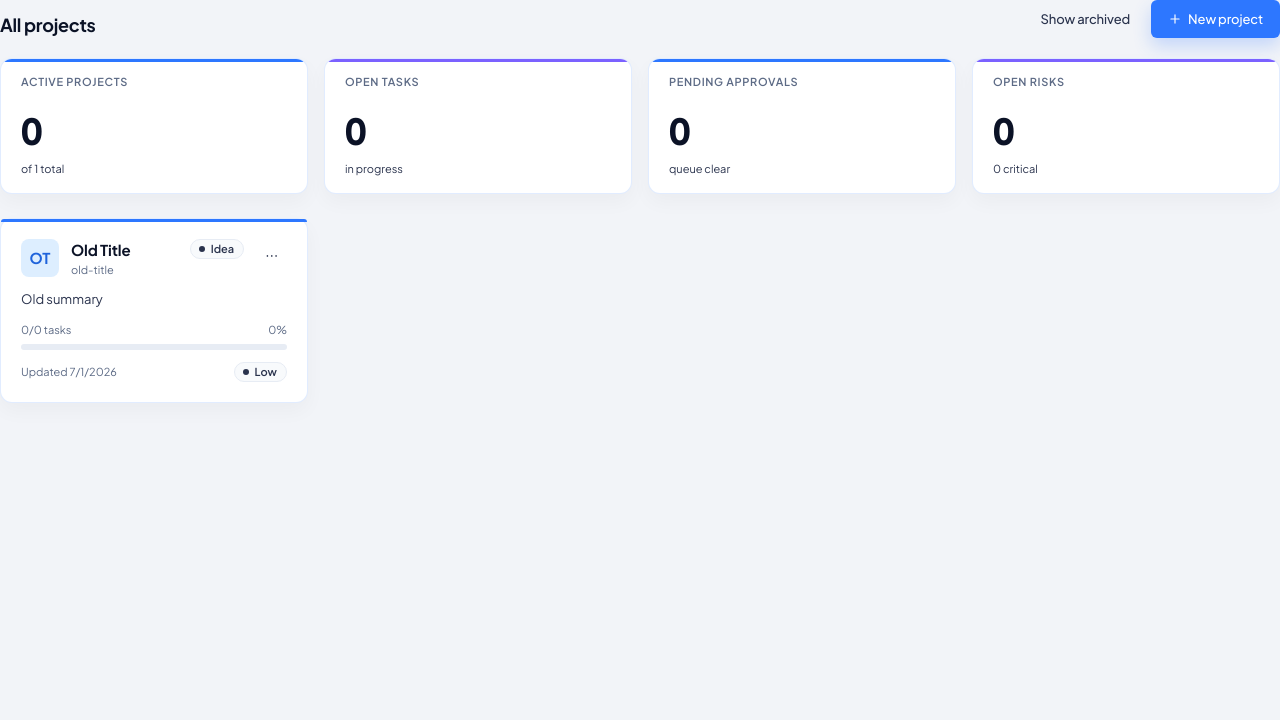
Scenario: Dashboard project edit (#158) › prefills the edit form from the project and PATCHes title, summary and priority
Click the button named "Project actions" at (272, 255), box x1=256 y1=239 x2=287 y2=271
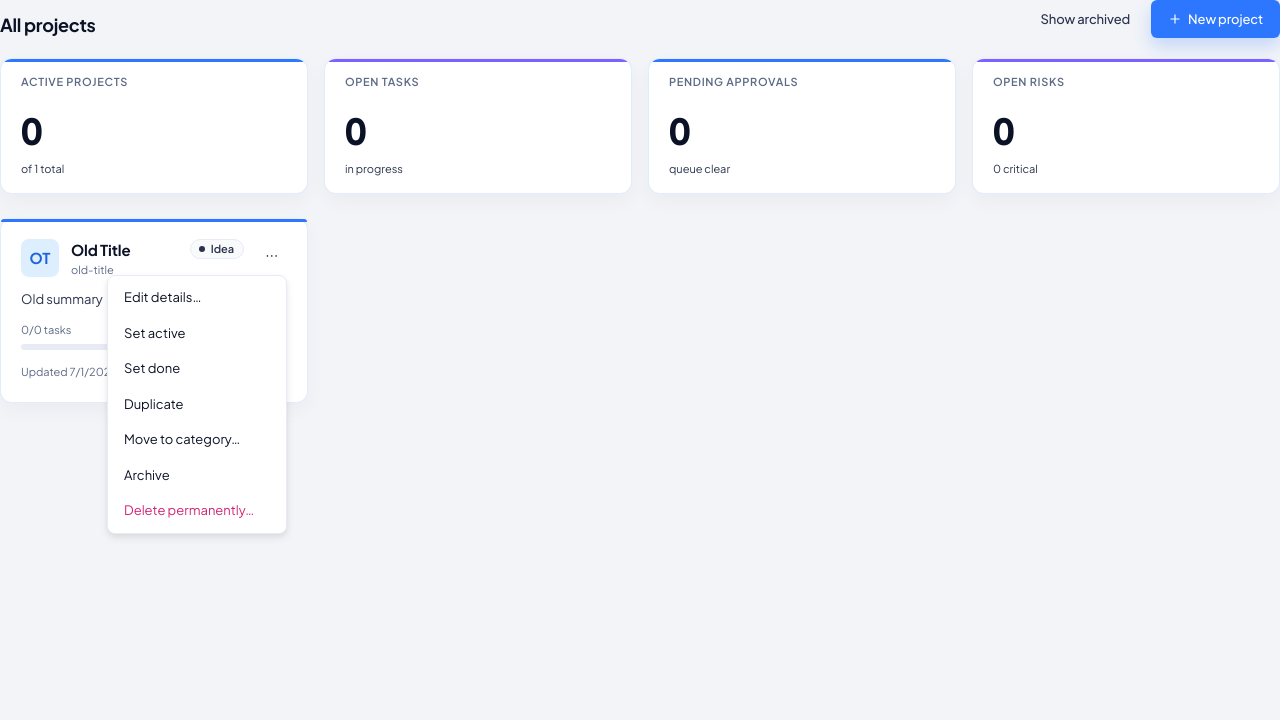
Click the menu item "Edit details…" at (197, 298), box x1=112 y1=280 x2=282 y2=316
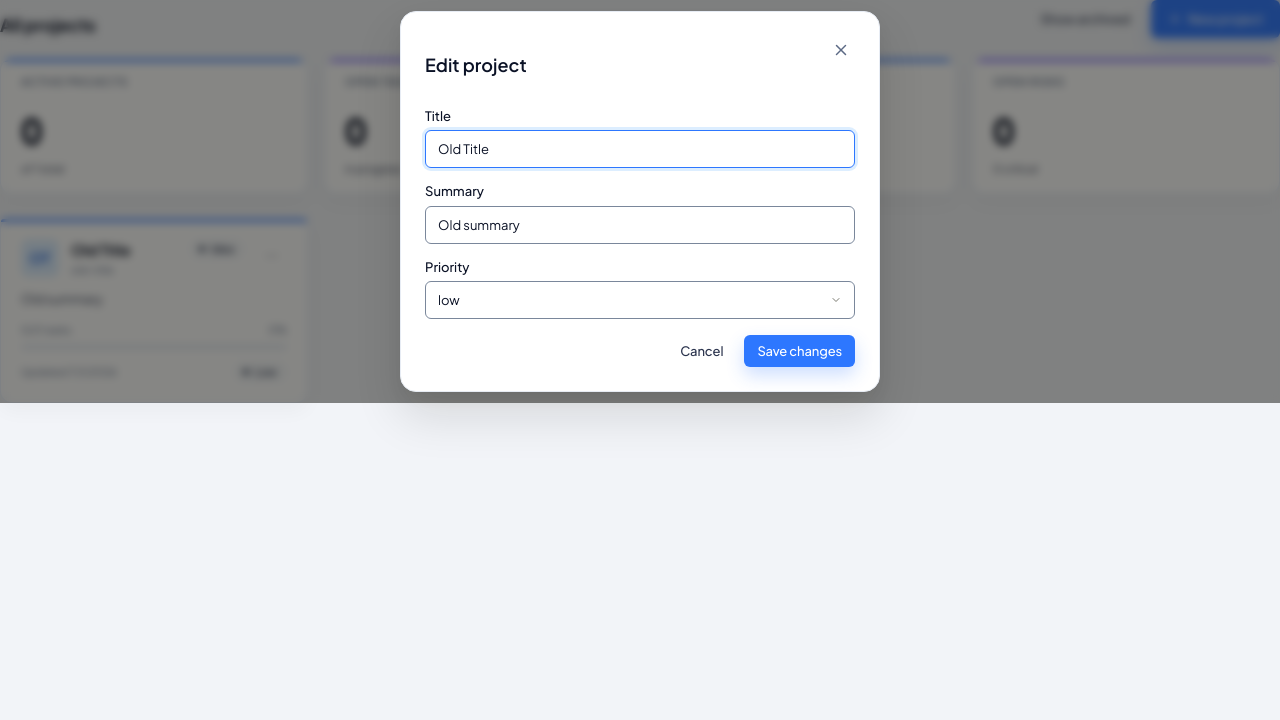
Check: the field labelled "Title" holds "Old Title"
Check: the field labelled "Summary" holds "Old summary", box x1=425 y1=206 x2=855 y2=244
Check: the dropdown labelled "Priority" shows "low", box x1=425 y1=282 x2=855 y2=320
Replace the text in the field labelled "Title" with "New Title" at (640, 149), box x1=425 y1=130 x2=855 y2=168
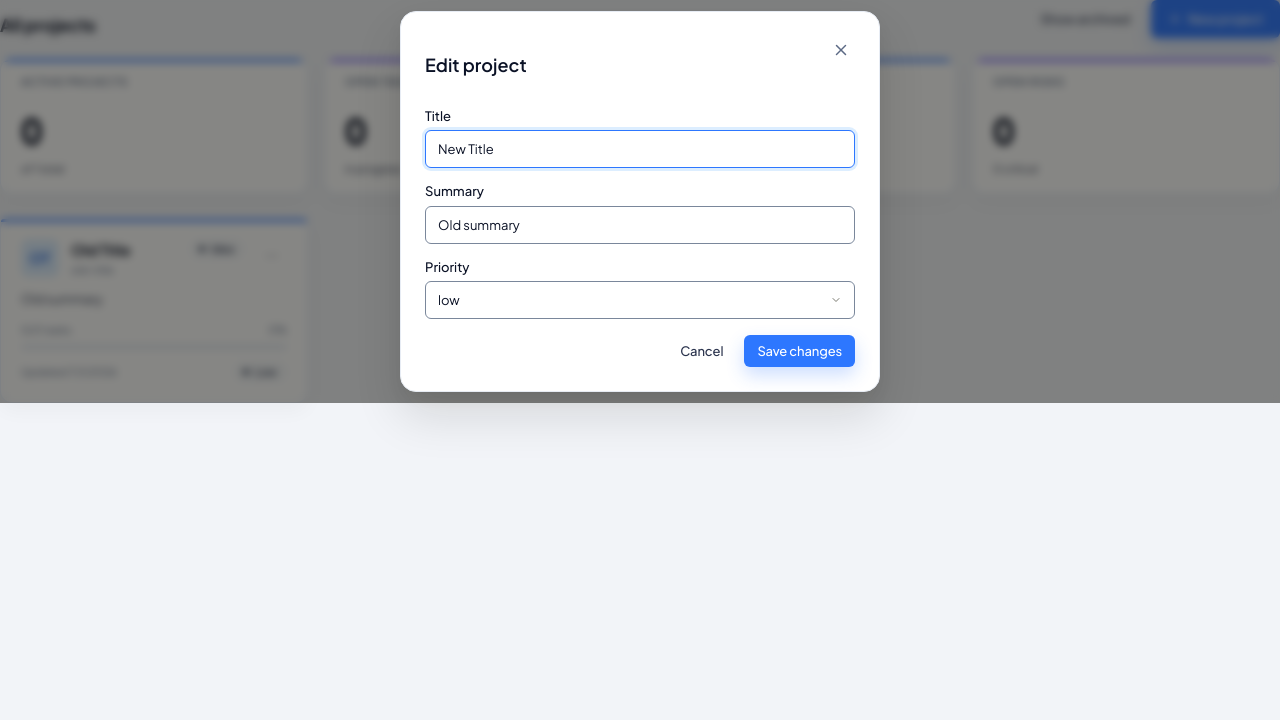
Replace the text in the field labelled "Summary" with "New summary" at (640, 225), box x1=425 y1=206 x2=855 y2=244
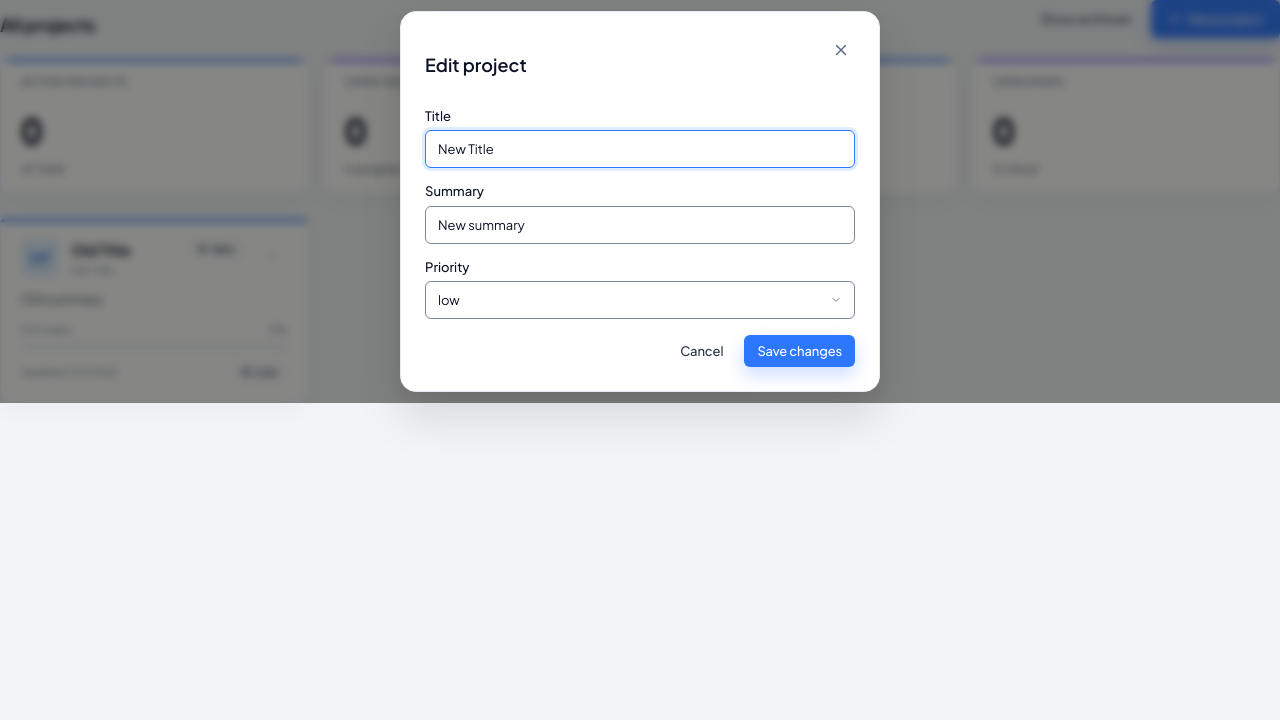
Select "urgent" in the dropdown labelled "Priority" at (640, 300), box x1=425 y1=282 x2=855 y2=320
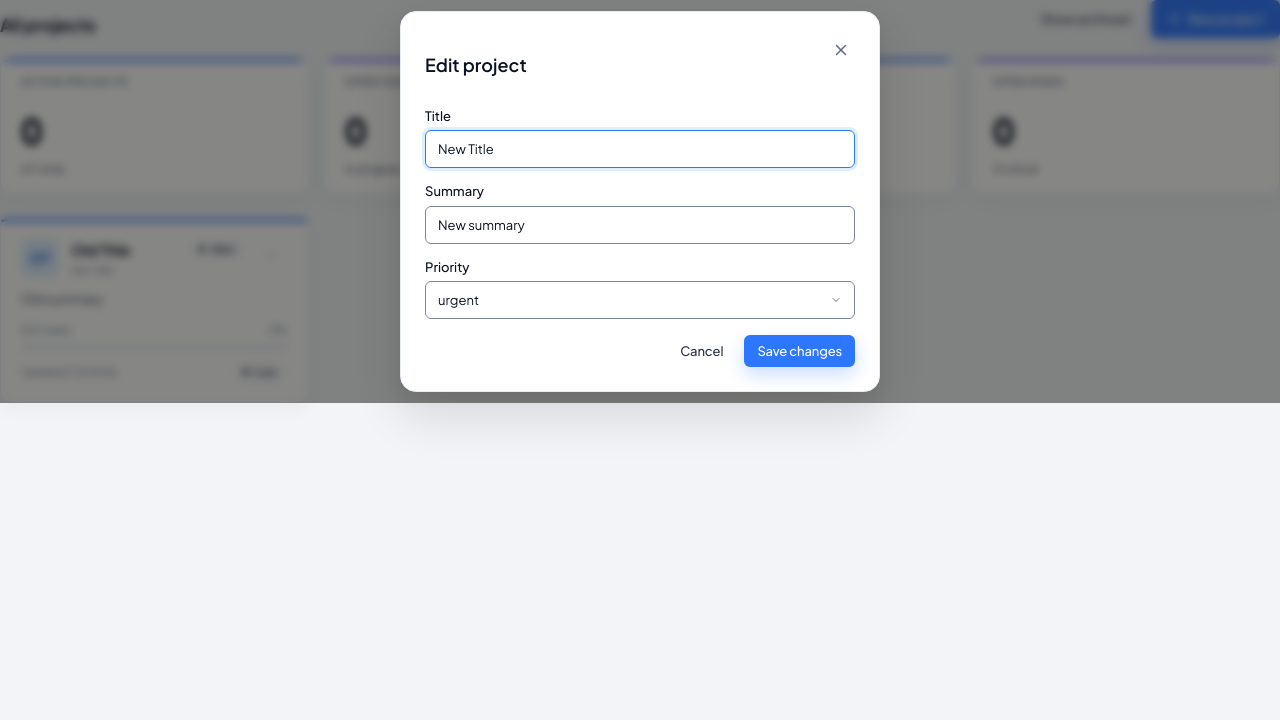
Click the button "Save changes" at (800, 352), box x1=744 y1=336 x2=855 y2=368
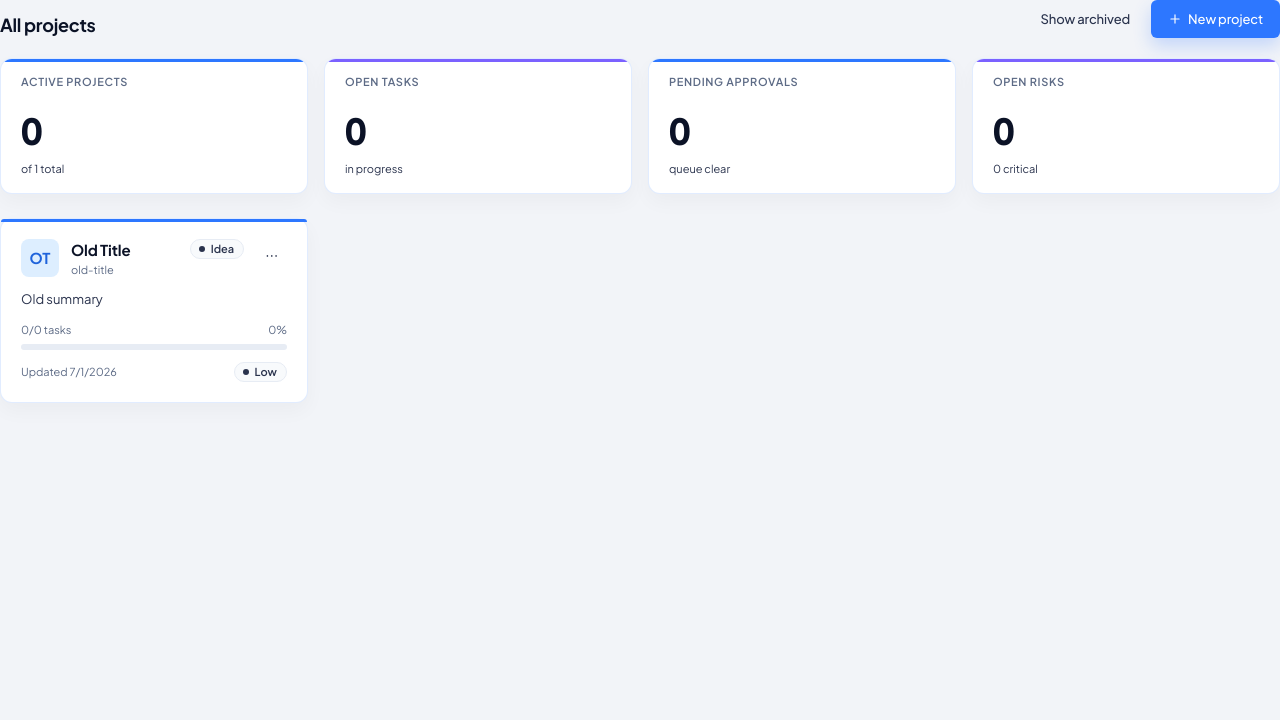
Check: the heading "Edit project" is gone
